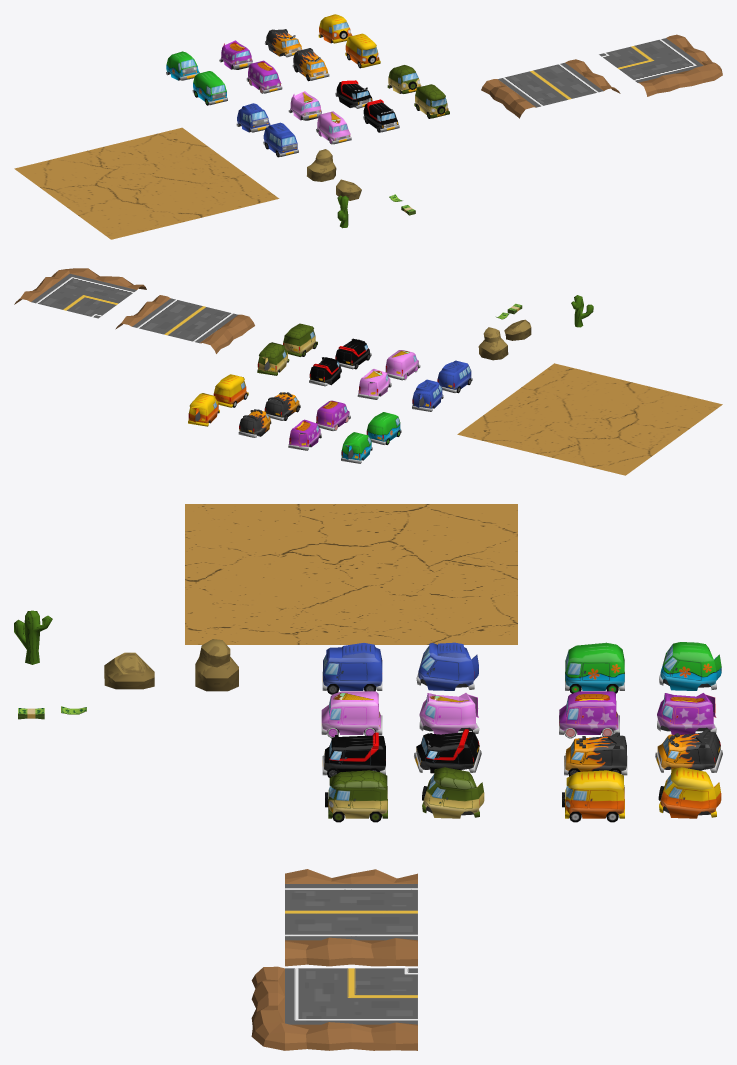
Rendered from Models.FBX.
The picture shows the model from 3 angles, top to bottom: view 1: azimuth 30°, elevation 25°; view 2: azimuth 150°, elevation 25°; view 3: azimuth 270°, elevation 25°; orthographic projection. The views are drawn at different scales.
Visible parts, largest first — view 1: Ground, RoadTurn, RoadStraight, VanMystery, VanOrange, VanTurtle, Van, VanSundae, VanHotdog, VanATeam, VanFlamer, VanATeamCrash (+9 smaller); view 2: Ground, RoadStraight, RoadTurn, VanMystery, VanOrange, VanTurtle, Van, VanOrangeCrash, VanTurtleCrash, VanCrash, VanMysteryCrash, VanSundaeCrash (+10 smaller); view 3: Ground, RoadTurn, RoadStraight, VanTurtle, VanOrange, VanOrangeCrash, VanTurtleCrash, VanMystery, Van, VanMysteryCrash, VanCrash, VanSundae (+10 smaller).
Part boxes in pixels (left/top/right/bottom): Ground: left=14, top=127, right=279, bottom=239; RoadTurn: left=599, top=34, right=722, bottom=96; RoadStraight: left=481, top=59, right=620, bottom=118; VanMystery: left=192, top=71, right=227, bottom=105; VanOrange: left=345, top=33, right=380, bottom=67; VanTurtle: left=414, top=84, right=449, bottom=118; Van: left=263, top=122, right=298, bottom=156; VanSundae: left=316, top=111, right=351, bottom=144; VanHotdog: left=246, top=60, right=282, bottom=93; VanATeam: left=363, top=99, right=399, bottom=132; VanFlamer: left=292, top=48, right=329, bottom=80; VanATeamCrash: left=335, top=80, right=372, bottom=108; Ground: left=457, top=363, right=722, bottom=475; RoadStraight: left=115, top=295, right=254, bottom=353; RoadTurn: left=14, top=268, right=146, bottom=318; VanMystery: left=366, top=412, right=401, bottom=444; VanOrange: left=213, top=374, right=248, bottom=407; VanTurtle: left=283, top=323, right=317, bottom=356; Van: left=437, top=360, right=472, bottom=392; VanOrangeCrash: left=188, top=393, right=219, bottom=426; VanTurtleCrash: left=257, top=342, right=289, bottom=375; VanCrash: left=412, top=379, right=443, bottom=411; VanMysteryCrash: left=341, top=432, right=372, bottom=463; VanSundaeCrash: left=357, top=369, right=391, bottom=399; Ground: left=185, top=504, right=517, bottom=644; RoadTurn: left=251, top=966, right=417, bottom=1050; RoadStraight: left=285, top=869, right=417, bottom=966; VanTurtle: left=325, top=770, right=387, bottom=818; VanOrange: left=562, top=770, right=624, bottom=818; VanOrangeCrash: left=658, top=767, right=721, bottom=818; VanTurtleCrash: left=422, top=767, right=484, bottom=818; VanMystery: left=565, top=642, right=624, bottom=690; Van: left=322, top=643, right=382, bottom=690; VanMysteryCrash: left=659, top=642, right=721, bottom=690; VanCrash: left=416, top=642, right=478, bottom=690; VanSundae: left=321, top=691, right=382, bottom=734.
Bounding box in the file's own units: 1900 × 106 × 1065.
10 materials, 10 textured.
